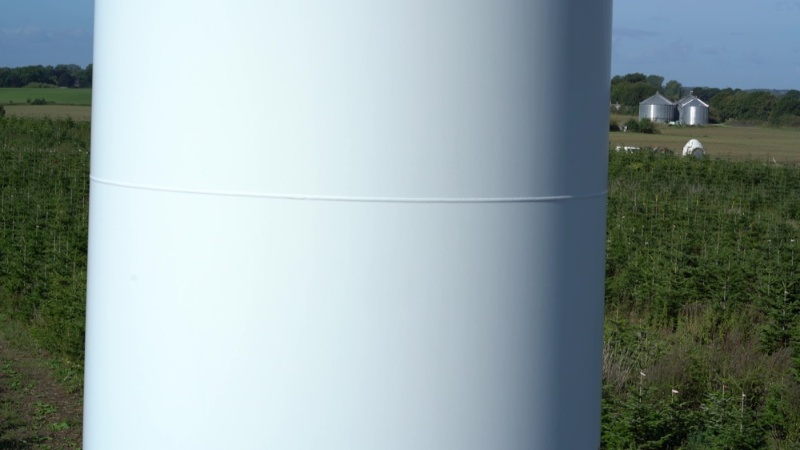weldseam: (84, 169, 610, 209)
